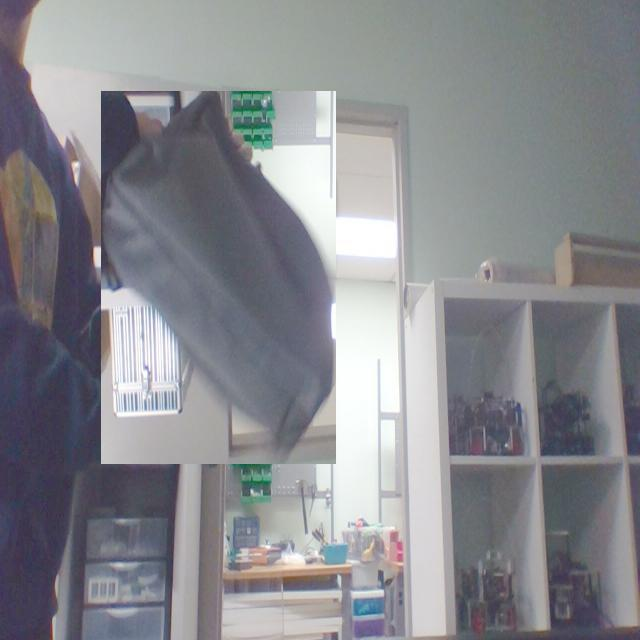Backpacks: (100, 92, 336, 466)
